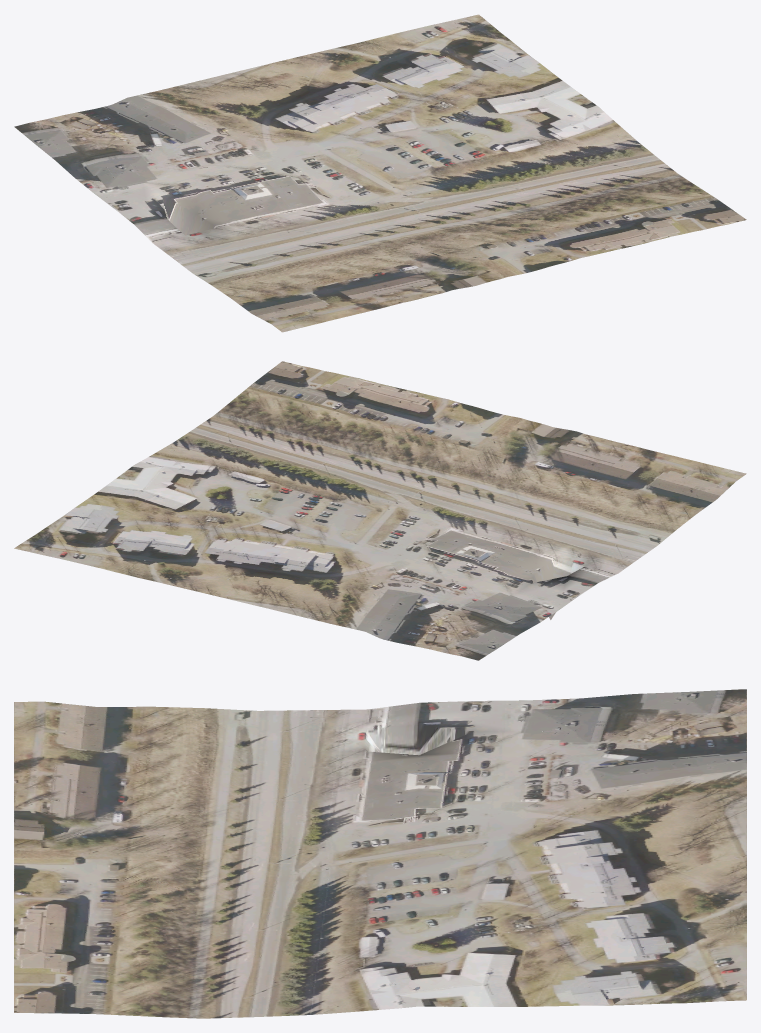
Rendered from CM_Terrain_24490868_6820408.fbx.
3 renders of one model, top to bottom at view 1: azimuth 30°, elevation 25°; view 2: azimuth 150°, elevation 25°; view 3: azimuth 270°, elevation 25°, orthographic. The views are drawn at different scales.
Parts seen in each view (by area): view 1: CM_Terrain_24490868_6820408_LOD0; view 2: CM_Terrain_24490868_6820408_LOD0; view 3: CM_Terrain_24490868_6820408_LOD0.
Part boxes in pixels (bbox=[...]): CM_Terrain_24490868_6820408_LOD0: bbox=[14, 14, 746, 332]; CM_Terrain_24490868_6820408_LOD0: bbox=[14, 361, 746, 660]; CM_Terrain_24490868_6820408_LOD0: bbox=[14, 689, 746, 1018].
Size of what is drawn, in the model's own units: 205 by 25.52 by 205.
